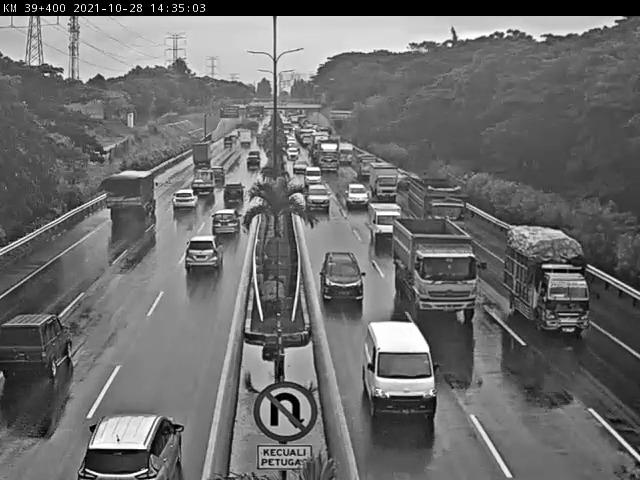big truck: (391, 220, 491, 326), (93, 167, 159, 225), (403, 178, 473, 223)
car: (356, 317, 442, 432), (75, 410, 192, 480), (0, 305, 81, 384), (312, 244, 369, 315), (178, 230, 224, 282), (368, 198, 400, 246), (208, 204, 247, 241), (305, 187, 337, 217), (345, 178, 370, 212), (171, 188, 200, 214), (225, 181, 245, 207)
small truck: (505, 217, 603, 352), (373, 161, 401, 205), (191, 165, 218, 203)
